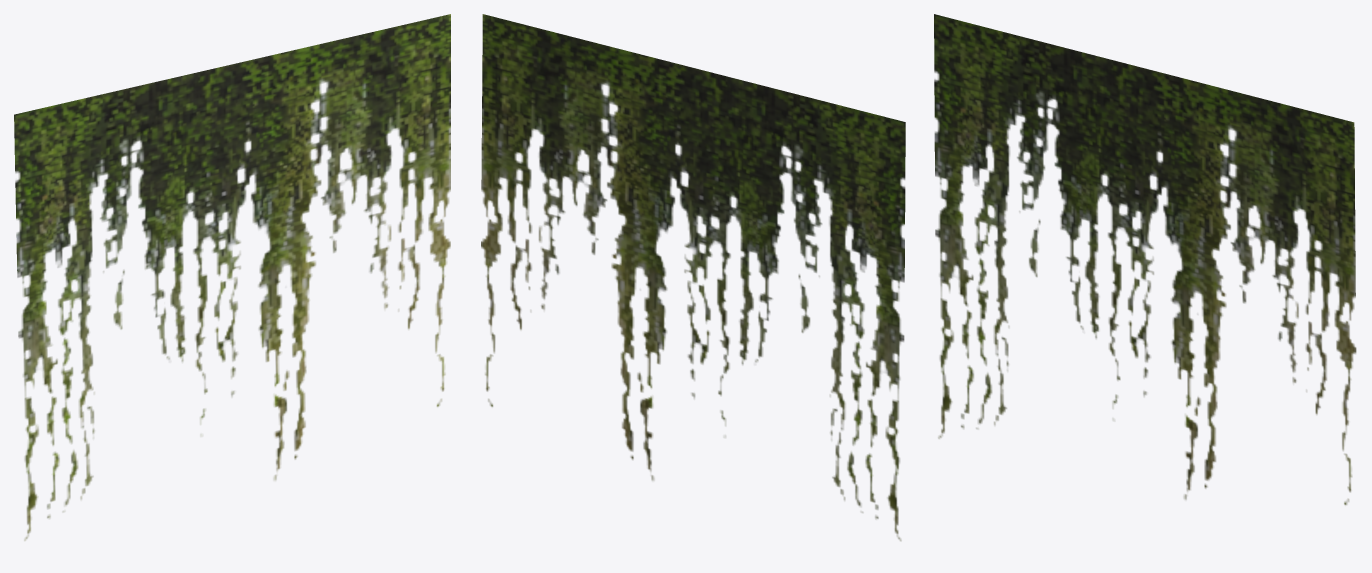
The model's file is Island_1_Hanging_3.gltf.
The picture shows the model from 3 angles, left to right: view 1: azimuth 30°, elevation 25°; view 2: azimuth 150°, elevation 25°; view 3: azimuth 330°, elevation 25°; orthographic projection.
Parts seen in each view (by area): view 1: Island_1_Hanging_3; view 2: Island_1_Hanging_3; view 3: Island_1_Hanging_3.
Boxes of the visible parts, x1,y1,x2,y2 form: Island_1_Hanging_3: (14,14,450,540); Island_1_Hanging_3: (481,14,905,540); Island_1_Hanging_3: (934,14,1356,504).
Bounding box in the file's own units: 7.85 × 7.68 × 0.1767.
Materials: 1 (1 with a texture image).
